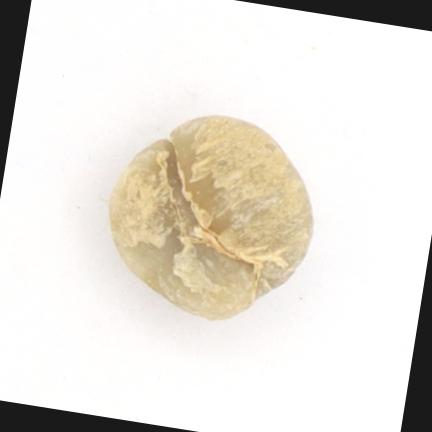immature: (110, 116, 313, 319)
